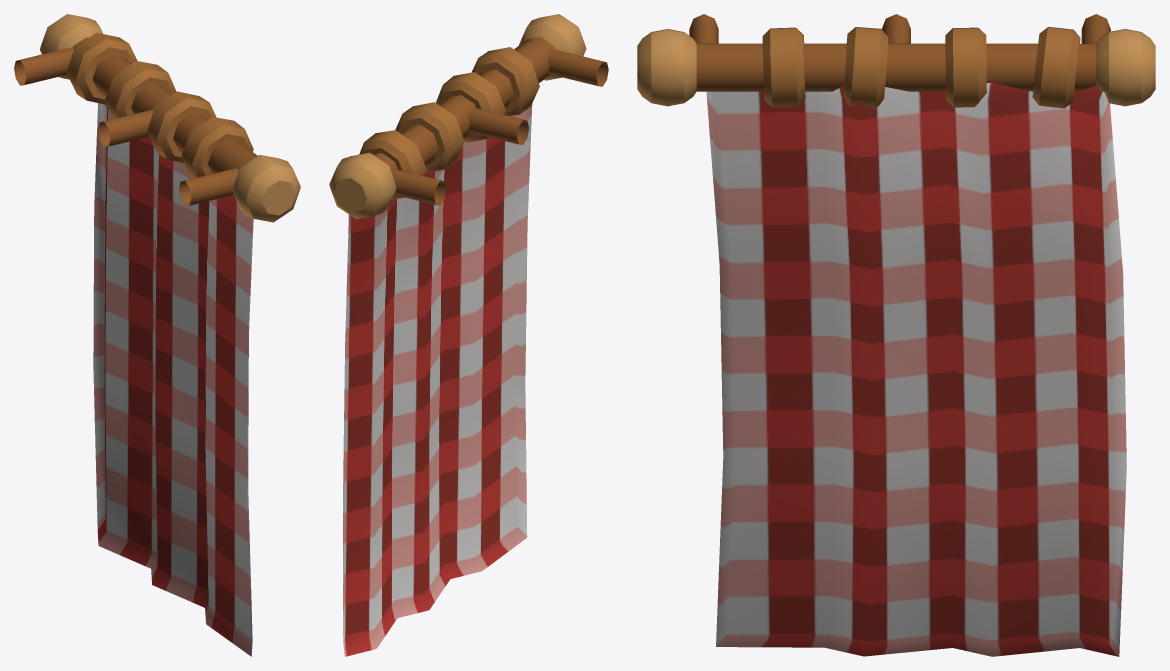
File: Curtains_Short_1_D_C.glb
The picture shows the model from 3 angles, left to right: view 1: azimuth 30°, elevation 25°; view 2: azimuth 150°, elevation 25°; view 3: azimuth 270°, elevation 25°; orthographic projection. The views are drawn at different scales.
Parts seen in each view (by area): view 1: Curtains_Short_1_D_C; view 2: Curtains_Short_1_D_C; view 3: Curtains_Short_1_D_C.
Part boxes in pixels (x1,y1,x2,y2): Curtains_Short_1_D_C: (14, 14, 300, 656); Curtains_Short_1_D_C: (329, 14, 608, 656); Curtains_Short_1_D_C: (637, 14, 1155, 656).
Bounding box in the file's own units: 0.2275 × 1.16 × 0.8807.
2 materials, 2 textured.
